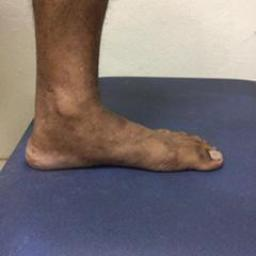Medial View -Left Foot-: (22, 74, 228, 193)
